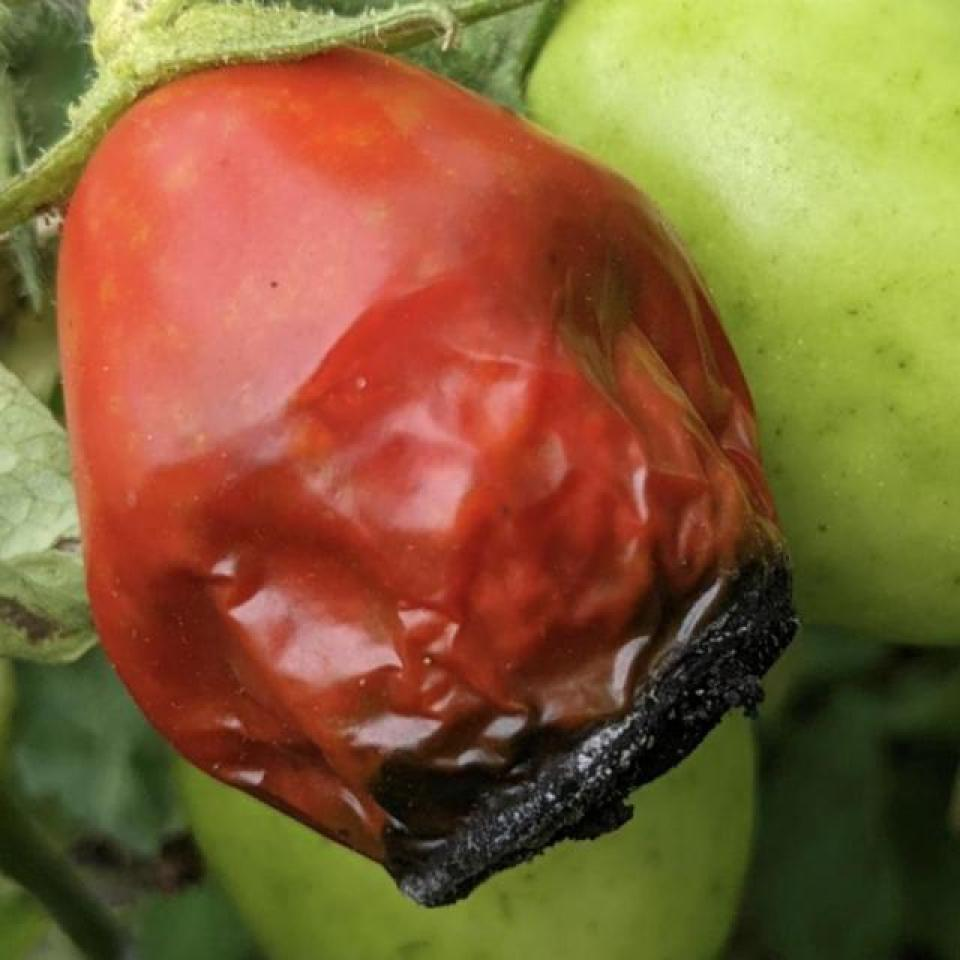Blossom_end_rot: (316, 536, 810, 908)
